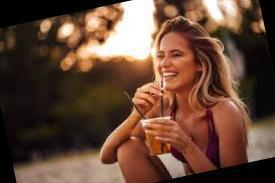Drunk: (155, 36, 200, 93)
